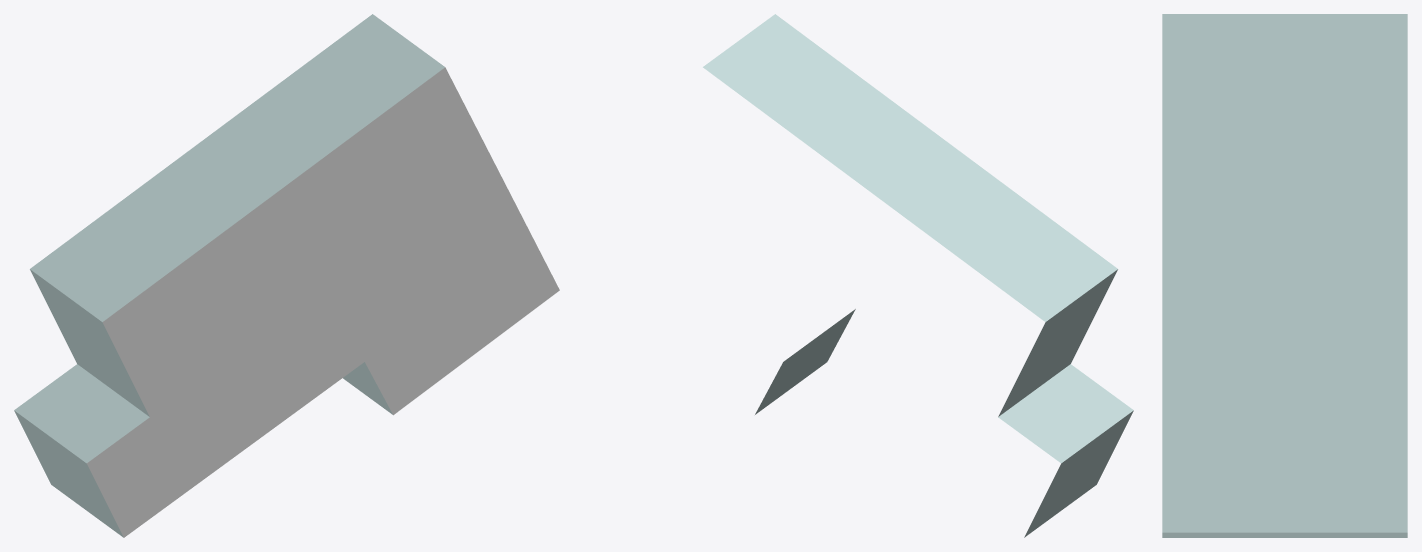
3 views of the same model, side by side, from view 1: azimuth 30°, elevation 25°; view 2: azimuth 150°, elevation 25°; view 3: azimuth 270°, elevation 25° (orthographic). The views are drawn at different scales.
Visible parts, largest first — view 1: 0_1_1_3_1_3_0_0_3; view 2: 0_1_1_3_1_3_0_0_3; view 3: 0_1_1_3_1_3_0_0_3.
Part boxes in pixels (<box>): 0_1_1_3_1_3_0_0_3: <box>14,14,559,537</box>; 0_1_1_3_1_3_0_0_3: <box>703,14,1133,537</box>; 0_1_1_3_1_3_0_0_3: <box>1162,14,1407,537</box>.
Size of the model in its own units: 11.28 by 8.94 by 3.
